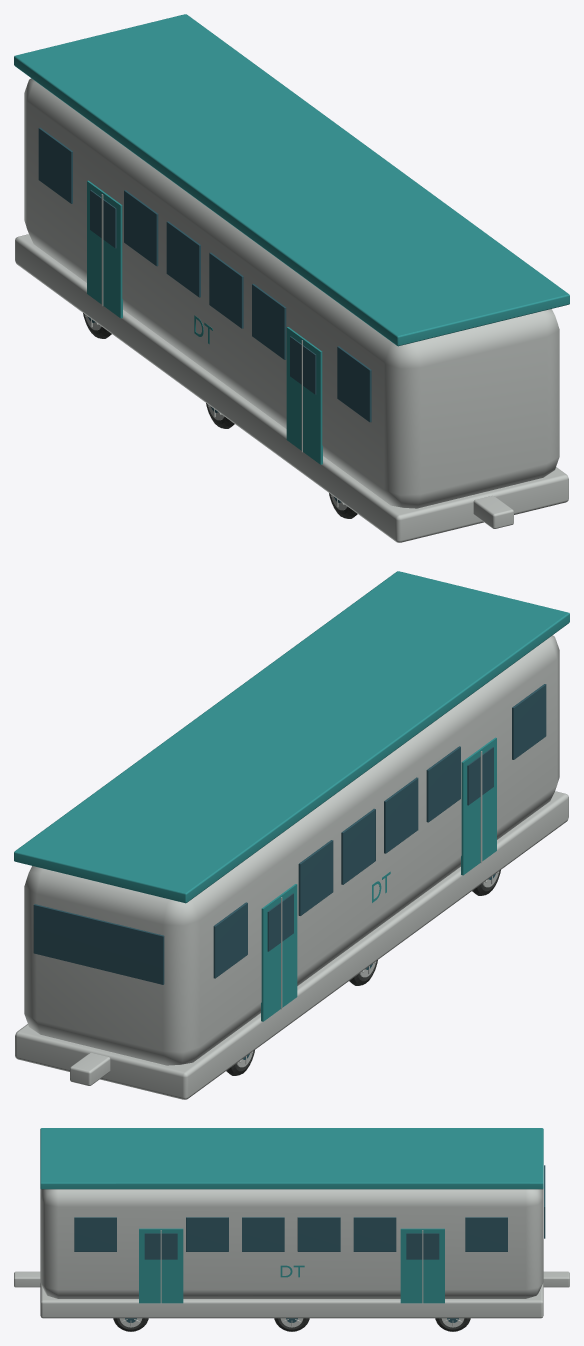
The model's file is subway_detail.glb.
The picture shows the model from 3 angles, top to bottom: view 1: azimuth 30°, elevation 25°; view 2: azimuth 150°, elevation 25°; view 3: azimuth 270°, elevation 25°; orthographic projection. The views are drawn at different scales.
Parts seen in each view (by area): view 1: SubwayModel traffic_metal, SubwayModel traffic_teal, SubwayModel traffic_glass; view 2: SubwayModel traffic_metal, SubwayModel traffic_teal, SubwayModel traffic_glass; view 3: SubwayModel traffic_metal, SubwayModel traffic_teal, SubwayModel traffic_glass.
Part boxes in pixels (box(x1,y1,x2,y2)): SubwayModel traffic_metal: box(15, 78, 568, 542); SubwayModel traffic_teal: box(14, 14, 569, 464); SubwayModel traffic_glass: box(38, 127, 371, 422); SubwayModel traffic_metal: box(15, 635, 568, 1099); SubwayModel traffic_teal: box(14, 571, 569, 1021); SubwayModel traffic_glass: box(33, 684, 546, 984); SubwayModel traffic_metal: box(14, 1189, 569, 1318); SubwayModel traffic_teal: box(40, 1128, 543, 1303); SubwayModel traffic_glass: box(74, 1165, 545, 1259).
Bounding box in the file's own units: 2.66 × 3.32 × 10.86.
